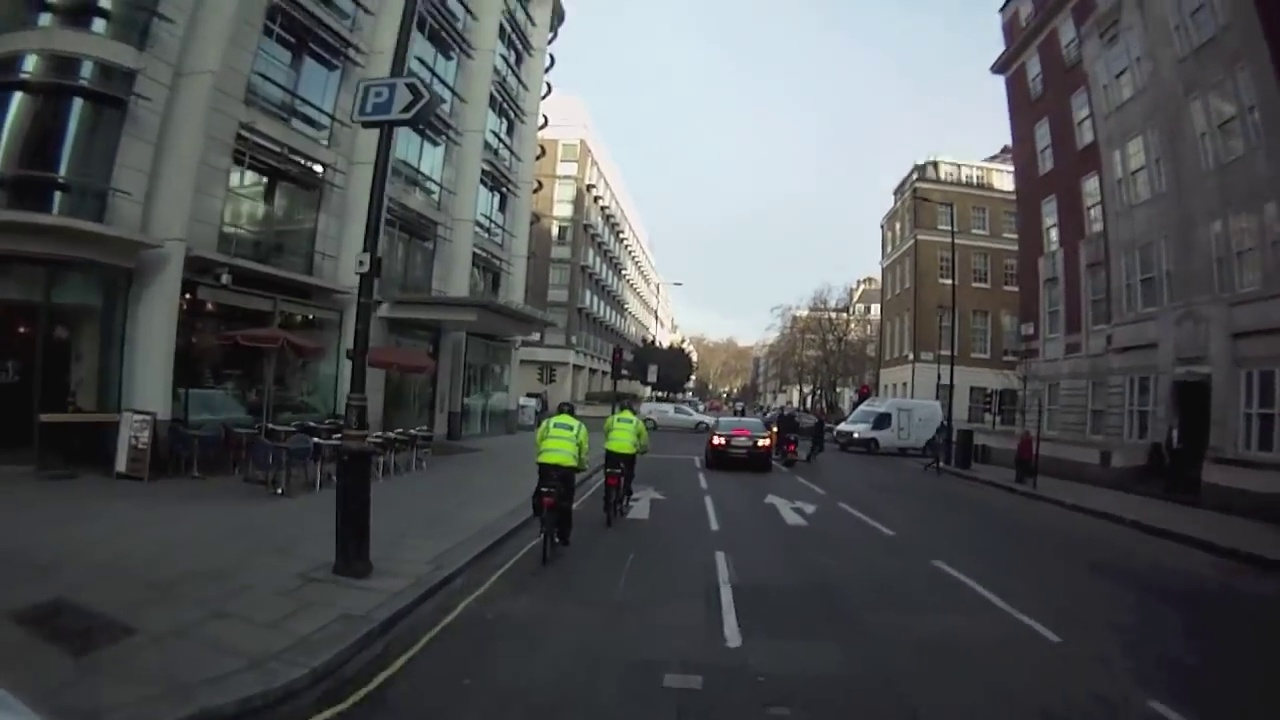cyclist_back: (533, 404, 584, 557), (598, 394, 646, 541)
